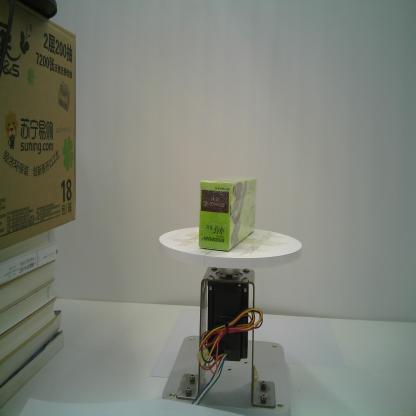Instant Drink: (198, 176, 257, 251)
